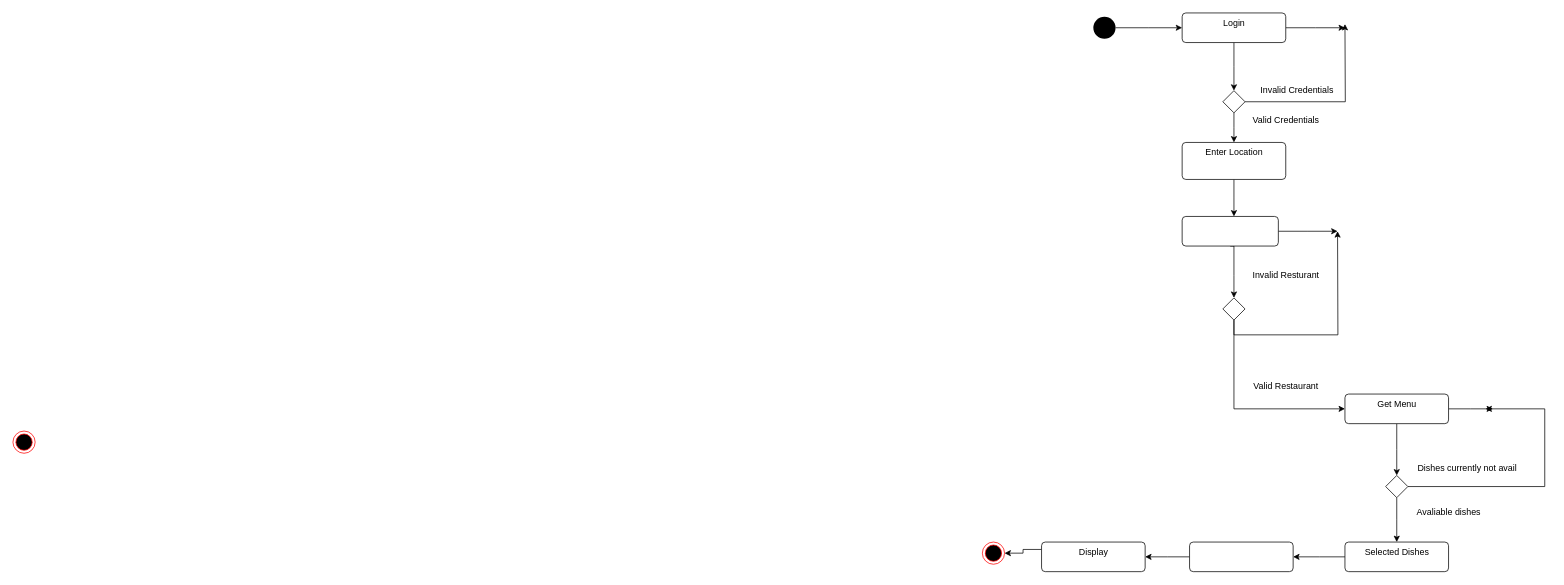
Image size: 1564x585. Some labels were removed from this diagram. The centre of each missing label's shape, as x and y in pixels:
"Search Restaurant" goes at (x=1229, y=231).
"Total Cost" goes at (x=1241, y=556).
